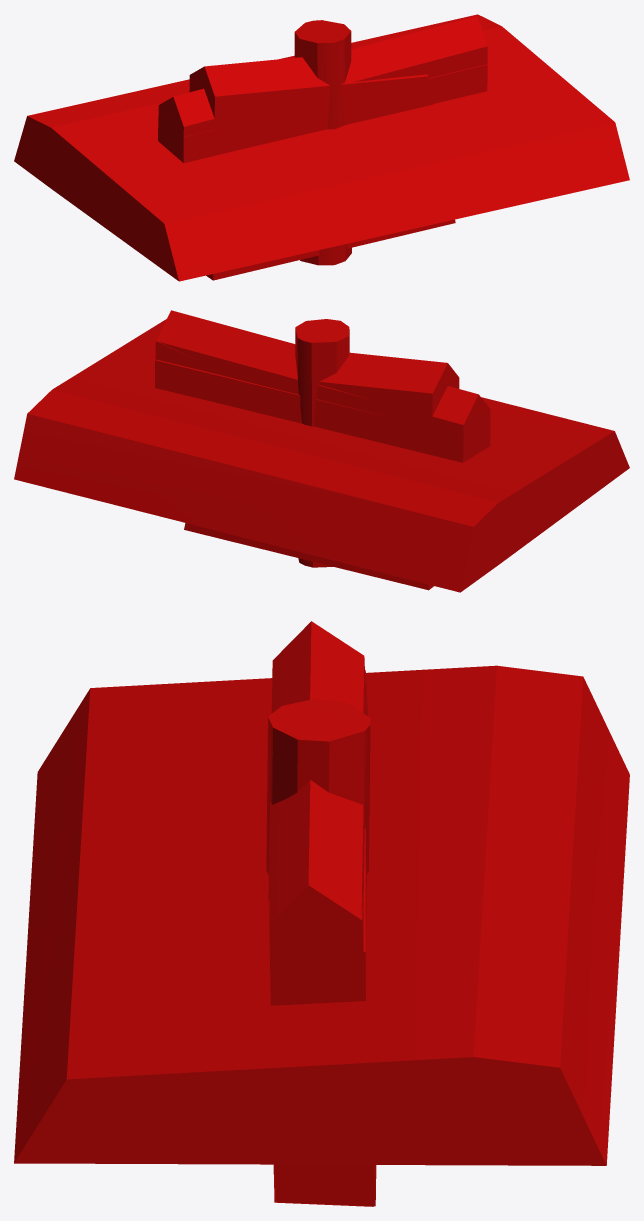
Rendered from Pochti_vse_srazy (1).fbx.
The picture shows the model from 3 angles, top to bottom: view 1: azimuth 30°, elevation 25°; view 2: azimuth 150°, elevation 25°; view 3: azimuth 270°, elevation 25°; orthographic projection. The views are drawn at different scales.
Visible parts, largest first — view 1: Plac, Stena3, Stena, Bashnya, Stena_kubik_sobr; view 2: Plac, Stena, Stena3, Stena_kubik_sobr, Bashnya, Stena2; view 3: Plac, Stena, Bashnya, Stena3.
Part boxes in pixels (x1=…): Plac: x1=14, y1=14, x2=629, y2=281; Stena3: x1=189, y1=57, x2=455, y2=280; Stena: x1=158, y1=16, x2=487, y2=140; Bashnya: x1=294, y1=20, x2=351, y2=265; Stena_kubik_sobr: x1=158, y1=64, x2=487, y2=162; Plac: x1=14, y1=319, x2=629, y2=592; Stena: x1=158, y1=310, x2=490, y2=462; Stena3: x1=184, y1=352, x2=459, y2=590; Stena_kubik_sobr: x1=155, y1=359, x2=490, y2=461; Bashnya: x1=295, y1=319, x2=349, y2=567; Stena2: x1=154, y1=310, x2=205, y2=399; Plac: x1=14, y1=665, x2=629, y2=1165; Stena: x1=269, y1=670, x2=374, y2=1206; Bashnya: x1=266, y1=699, x2=370, y2=874; Stena3: x1=268, y1=621, x2=373, y2=1206.
Size of the model in its own units: 734 by 350 by 493.
